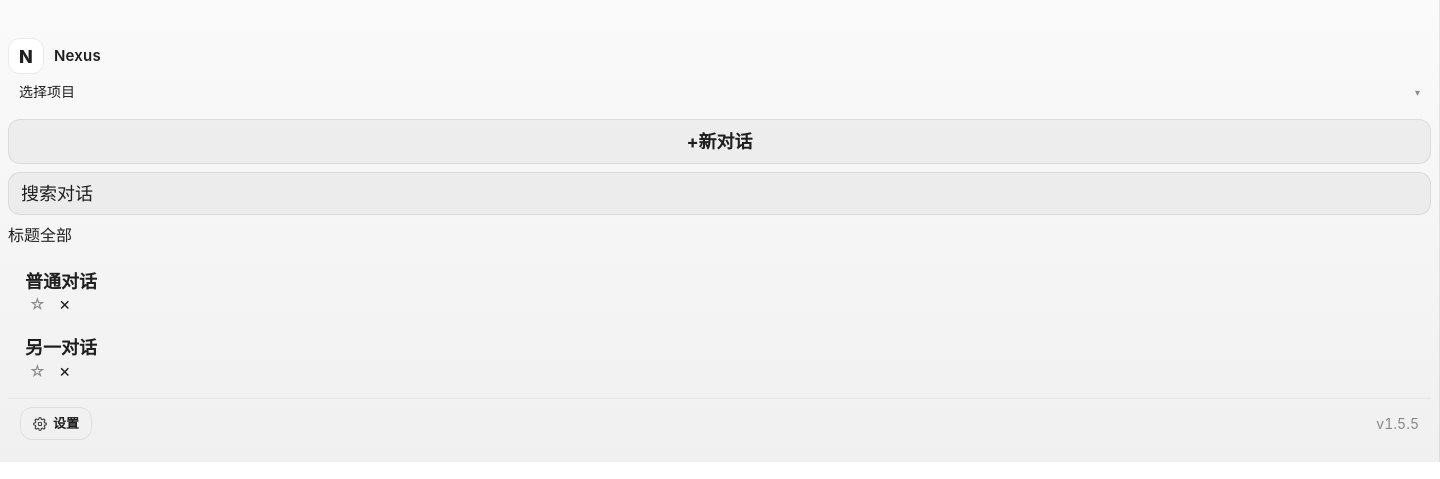
Test: Sidebar UX 第十轮(删除确认 / 重命名 / 星标分组 / 消息搜索) › 搜索 — title-only:title 不命中即不出现(不再匹配 messages[].content)
The image size is (1440, 479).
关键词只在 messages[].content 里 — title-only 搜索应不命中。
Type "kubernetes" into the search field with placeholder "搜索对话". click: (720, 194)
box: left=8, top=172, right=1431, bottom=215
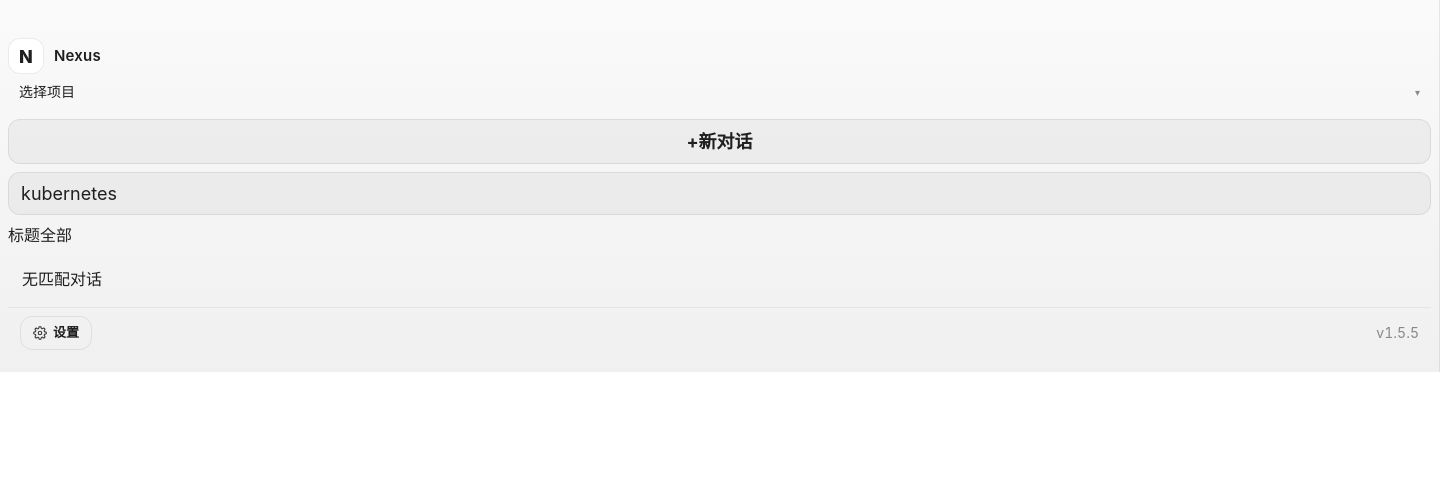
Check: no buttons with class "task-item" are shown
Check: the text "无匹配对话" is shown, box left=22, top=269, right=102, bottom=289
